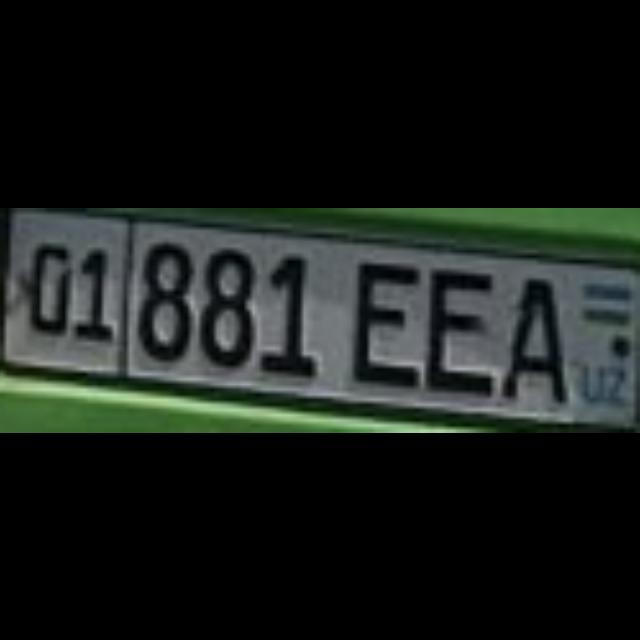0: (26, 233, 66, 325)
1: (252, 242, 312, 366), (72, 238, 108, 330)
8: (133, 232, 189, 356), (195, 238, 251, 360)
A: (496, 264, 564, 396)
E: (420, 258, 492, 386), (348, 253, 414, 381)
